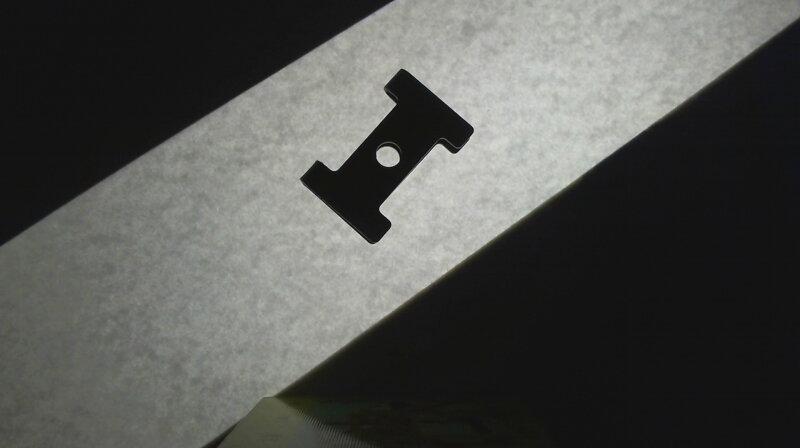O002: (294, 64, 476, 246)
